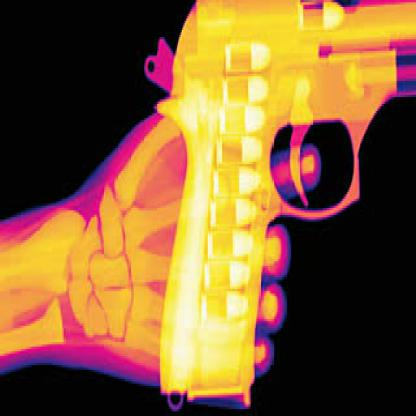gun: (150, 0, 414, 414)
